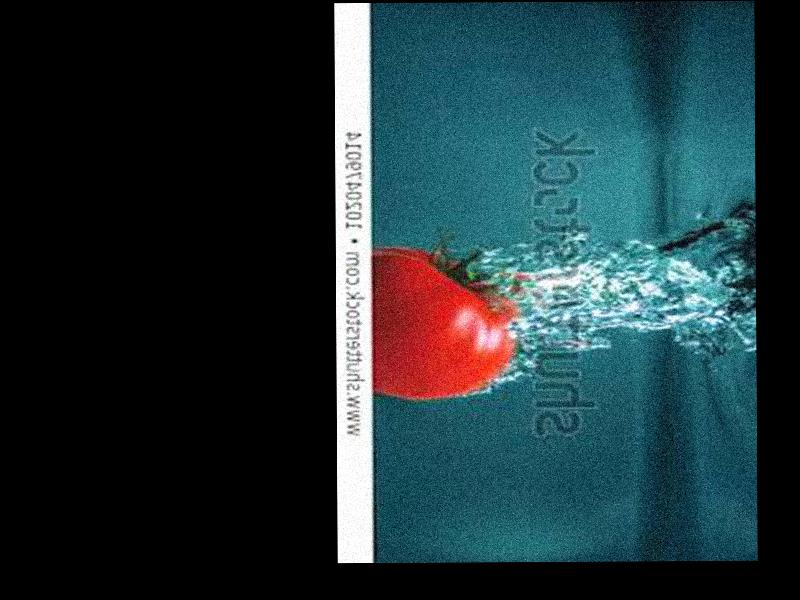Tomato: (371, 245, 516, 399)
